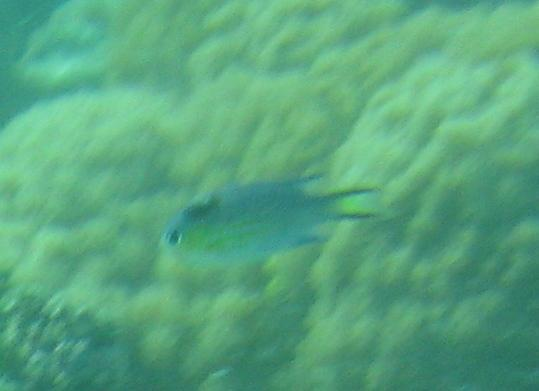Chromis nigura: (145, 160, 388, 271)
